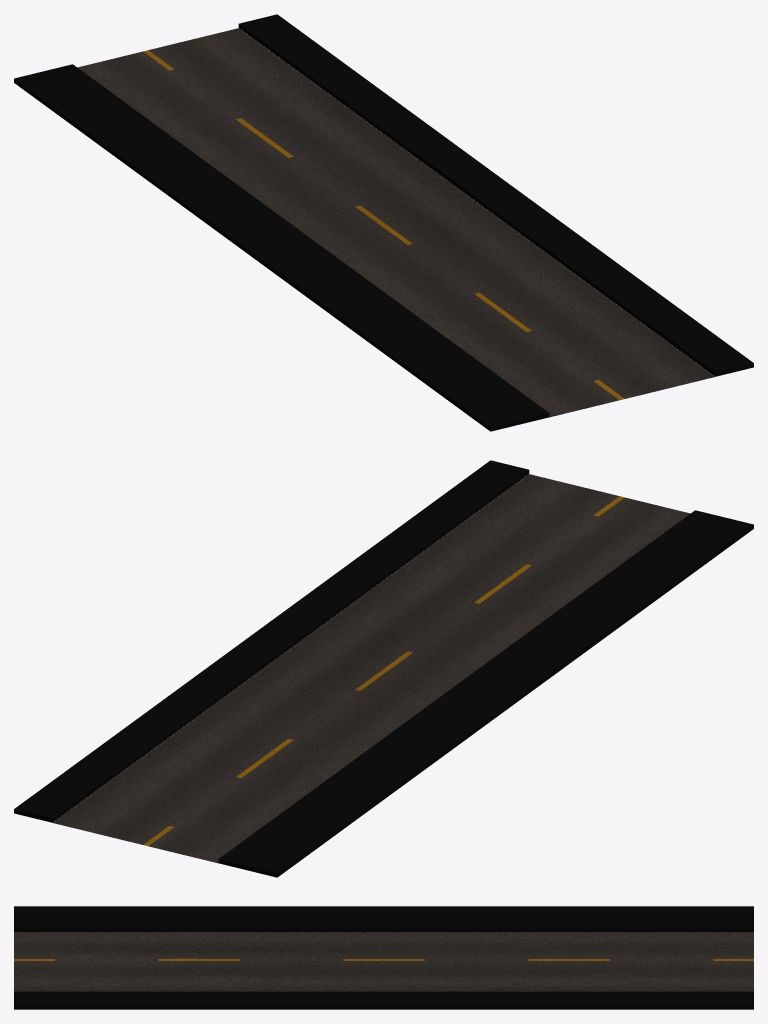
Rendered from ROADfinalooo1.glb.
The picture shows the model from 3 angles, top to bottom: view 1: azimuth 30°, elevation 25°; view 2: azimuth 150°, elevation 25°; view 3: azimuth 270°, elevation 25°; orthographic projection. The views are drawn at different scales.
Parts seen in each view (by area): view 1: Plane.002; view 2: Plane.002; view 3: Plane.002.
Boxes of the visible parts, box(x1,y1,x2,y2) form: Plane.002: box(14, 14, 753, 431); Plane.002: box(14, 460, 753, 877); Plane.002: box(14, 906, 753, 1009).
Size of the model in its own units: 32.4 by 0.5168 by 102.
Materials: 2 (2 with a texture image).
